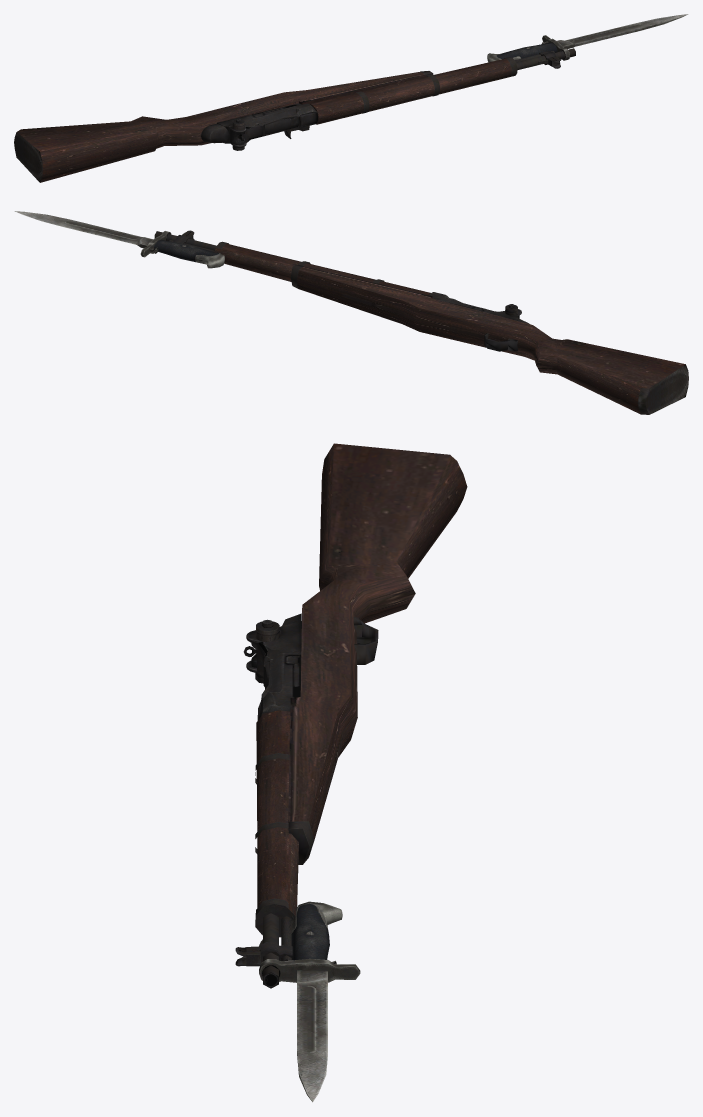
Rendered from weapon_usa_m1garand_rifle_bayonet_LOD01.obj.
3 renders of one model, top to bottom at view 1: azimuth 30°, elevation 25°; view 2: azimuth 150°, elevation 25°; view 3: azimuth 270°, elevation 25°, orthographic. The views are drawn at different scales.
Visible parts, largest first — view 1: TomGroup_2, TomGroup_0, TomGroup_1; view 2: TomGroup_2, TomGroup_0, TomGroup_1; view 3: TomGroup_2, TomGroup_0, TomGroup_1.
Boxes of the visible parts, x1,y1,x2,y2 form: TomGroup_2: (16, 58, 514, 182); TomGroup_0: (14, 48, 575, 182); TomGroup_1: (487, 14, 688, 62); TomGroup_2: (214, 243, 685, 414); TomGroup_0: (154, 230, 688, 414); TomGroup_1: (14, 211, 224, 268); TomGroup_2: (256, 443, 467, 937); TomGroup_0: (235, 613, 378, 988); TomGroup_1: (259, 901, 360, 1102).
Size of the model in its own units: 136 by 7.24 by 21.22.
3 materials, 3 textured.
